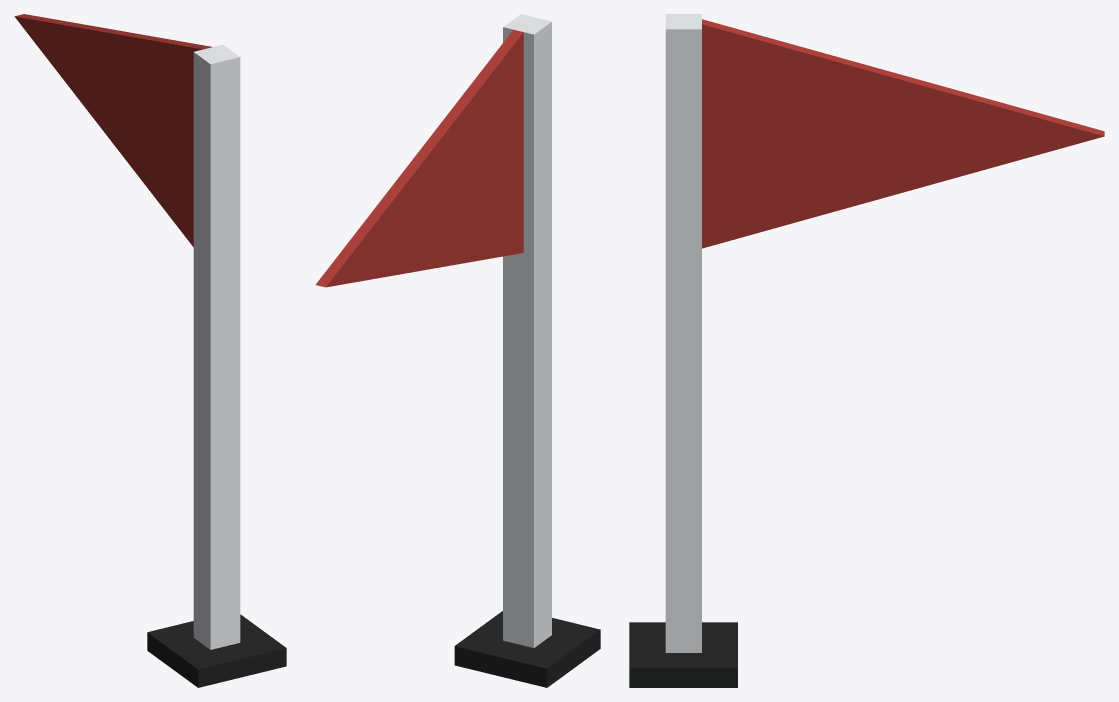
File: Flag.V1.fbx
3 renders of one model, left to right at view 1: azimuth 30°, elevation 25°; view 2: azimuth 150°, elevation 25°; view 3: azimuth 270°, elevation 25°, orthographic. The views are drawn at different scales.
Visible parts, largest first — view 1: Flag; view 2: Flag; view 3: Flag.
Part boxes in pixels (box(x1,y1,x2,y2)): Flag: box(14, 14, 286, 687); Flag: box(315, 14, 600, 687); Flag: box(629, 14, 1104, 687).
Bounding box in the file's own units: 0.268 × 1.75 × 1.17.
